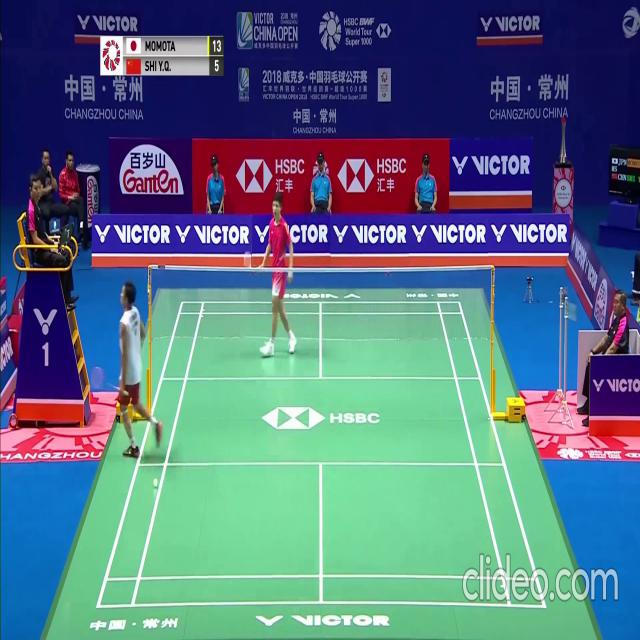Shuttlecock: (153, 479, 158, 487)
